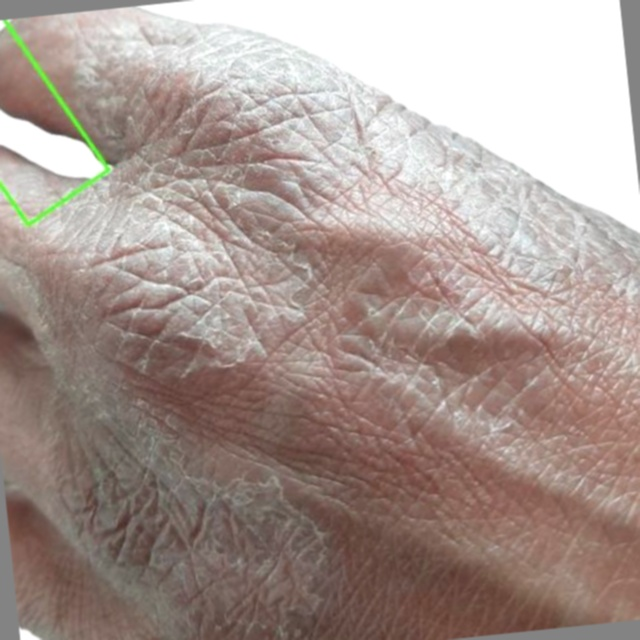Contact Dermatitis: (0, 15, 117, 225)
